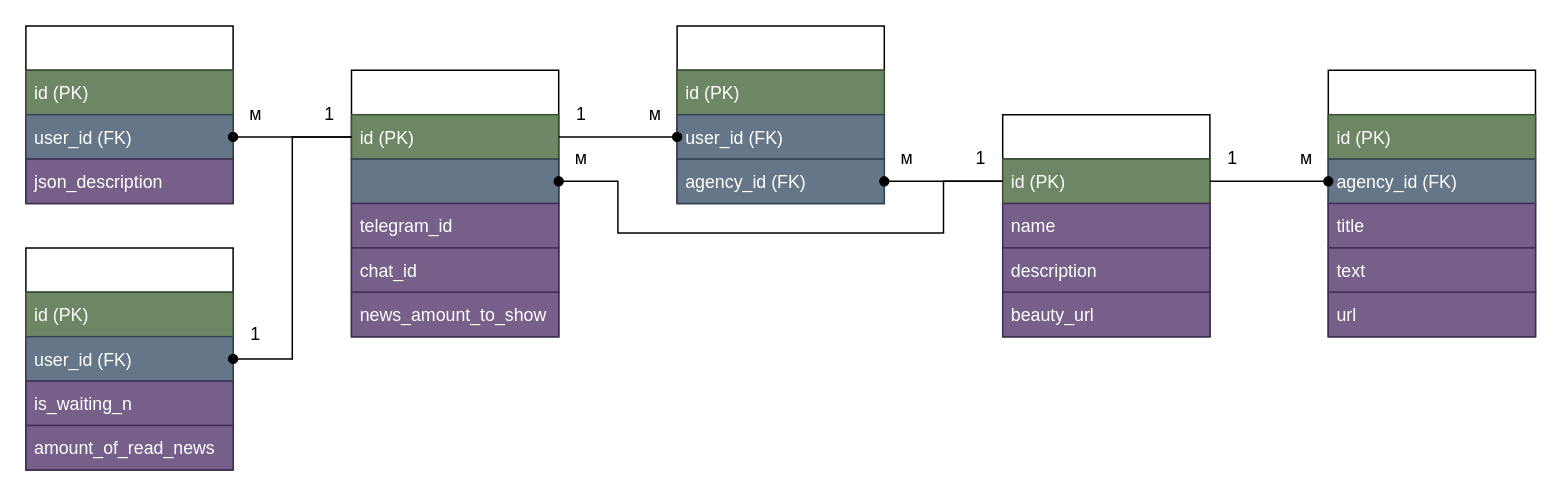
This 1561x496 diagram has some shape labels left out. The box of each missing label's shape, as (x1, y1, x2, y2) in pixels:
Actions: (24, 24, 233, 204)
ExpectedMoves: (24, 246, 233, 470)
Favorites: (676, 24, 884, 204)
News: (1327, 69, 1536, 337)
NewsAgencies: (1001, 113, 1210, 337)
source_agency_id (FK): (350, 158, 559, 204)
Users: (350, 69, 559, 337)
